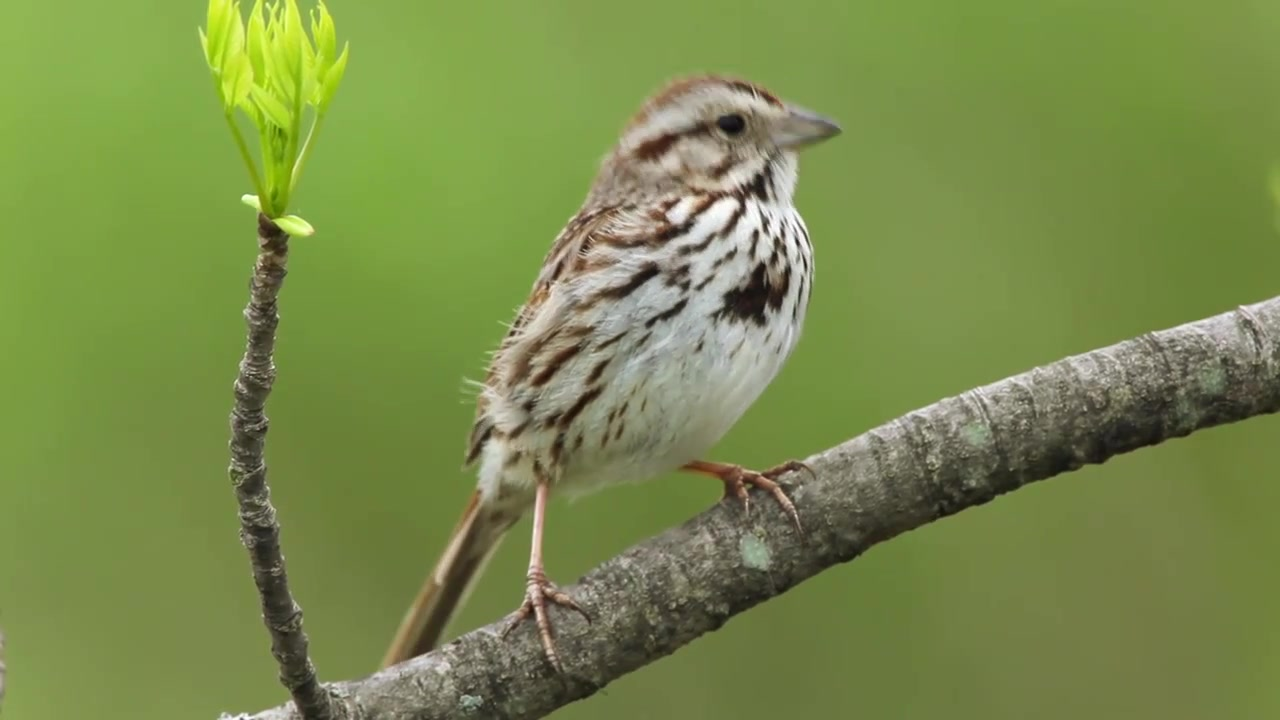bird: (379, 72, 852, 677)
